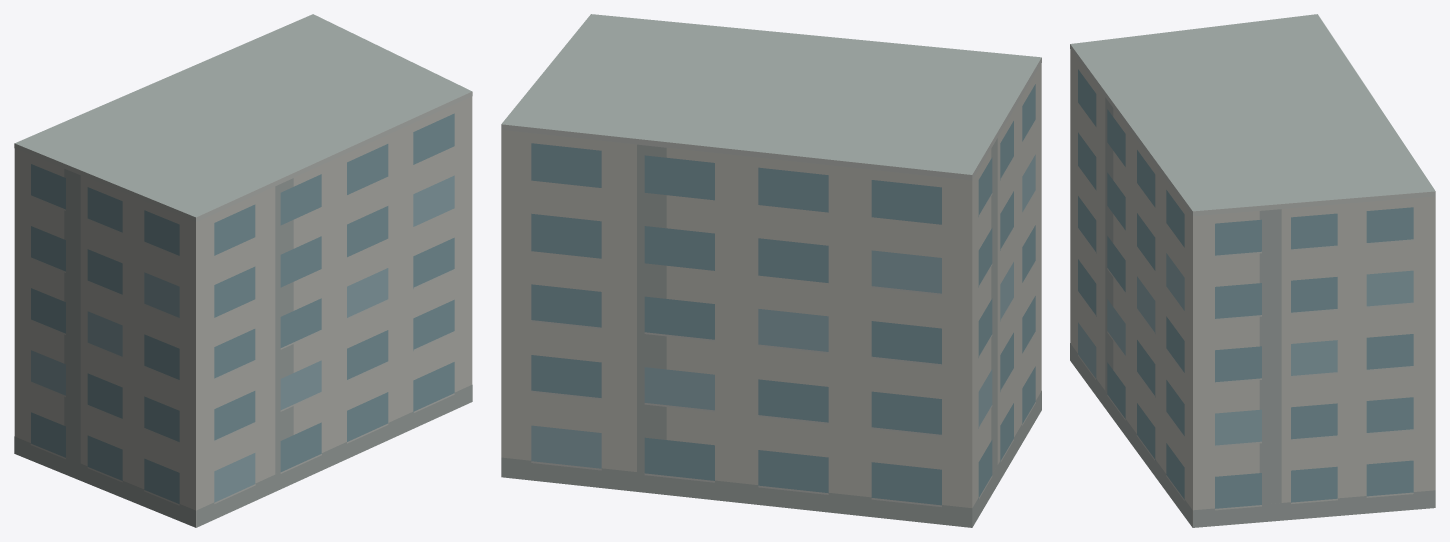
Rendered from residential-0ad388f4-12f8-42ae-b68d-a45aac6a854e.glb.
3 renders of one model, left to right at view 1: azimuth 30°, elevation 25°; view 2: azimuth 150°, elevation 25°; view 3: azimuth 270°, elevation 25°, orthographic. The views are drawn at different scales.
Parts seen in each view (by area): view 1: residential-0ad388f4-12f8-42ae-b68d-a45aac6a854e.tmp; view 2: residential-0ad388f4-12f8-42ae-b68d-a45aac6a854e.tmp; view 3: residential-0ad388f4-12f8-42ae-b68d-a45aac6a854e.tmp.
Boxes of the visible parts, x1,y1,x2,y2 form: residential-0ad388f4-12f8-42ae-b68d-a45aac6a854e.tmp: [14, 14, 472, 527]; residential-0ad388f4-12f8-42ae-b68d-a45aac6a854e.tmp: [501, 14, 1041, 527]; residential-0ad388f4-12f8-42ae-b68d-a45aac6a854e.tmp: [1070, 14, 1435, 527].
Size of the model in its own units: 20.4 by 15.25 by 15.97.
